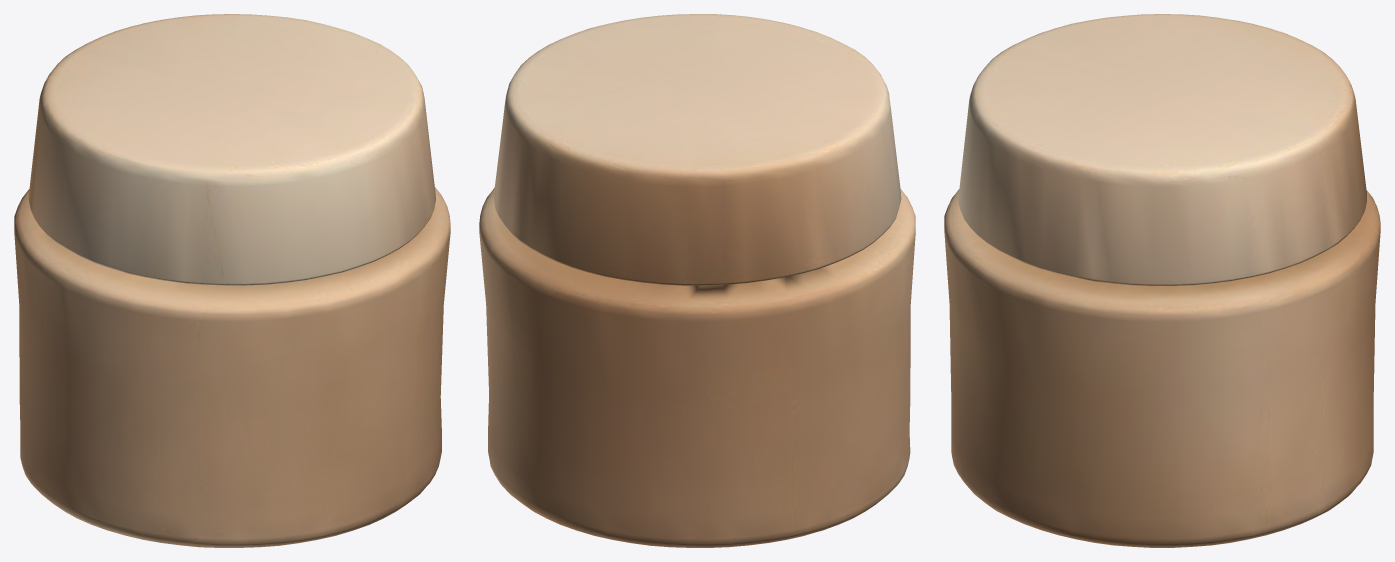
The model's file is jar.glb.
3 views of the same model, side by side, from view 1: azimuth 30°, elevation 25°; view 2: azimuth 150°, elevation 25°; view 3: azimuth 270°, elevation 25° (orthographic).
Parts seen in each view (by area): view 1: tripo_node_5b5c88b7-3ee2-42d5-80a9-fb1904749edd; view 2: tripo_node_5b5c88b7-3ee2-42d5-80a9-fb1904749edd; view 3: tripo_node_5b5c88b7-3ee2-42d5-80a9-fb1904749edd.
Boxes of the visible parts, bbox=[...] form: tripo_node_5b5c88b7-3ee2-42d5-80a9-fb1904749edd: bbox=[14, 14, 450, 547]; tripo_node_5b5c88b7-3ee2-42d5-80a9-fb1904749edd: bbox=[479, 14, 915, 547]; tripo_node_5b5c88b7-3ee2-42d5-80a9-fb1904749edd: bbox=[944, 14, 1380, 547].
Bounding box in the file's own units: 0.998 × 0.9434 × 0.998.
Materials: 1 (1 with a texture image).
